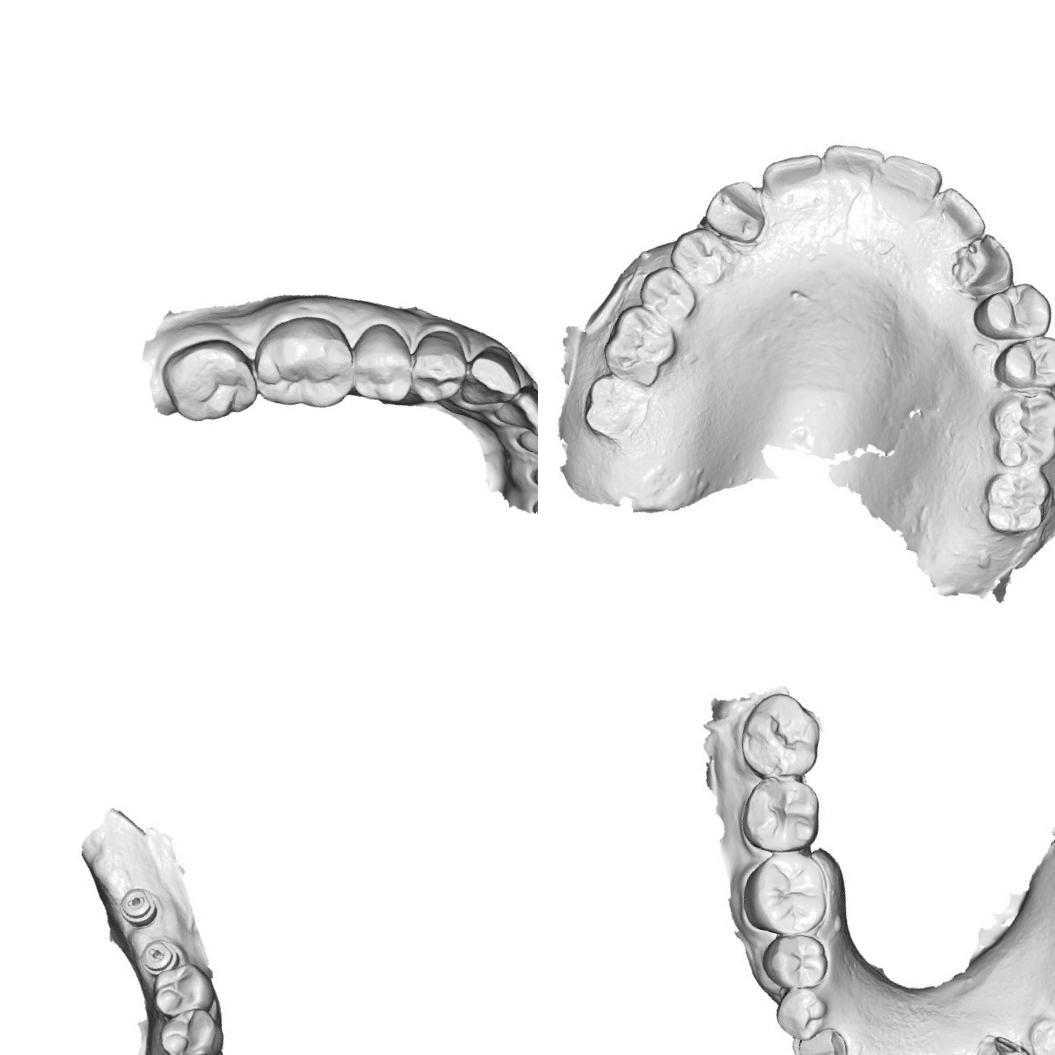canine: (454, 338, 528, 420), (700, 176, 769, 241), (957, 230, 1023, 296), (972, 1027, 1035, 1055)
crown: (787, 1021, 849, 1055)
implant_minus: (115, 886, 161, 930), (137, 937, 182, 977)
incisor: (818, 136, 890, 200), (924, 183, 996, 245), (875, 150, 948, 208), (490, 377, 538, 440), (763, 150, 823, 198), (511, 411, 538, 471)
molar: (244, 303, 364, 420), (155, 323, 274, 439), (735, 691, 830, 782), (744, 848, 832, 934), (742, 772, 826, 856), (599, 302, 678, 384), (576, 369, 652, 450), (978, 462, 1054, 540), (987, 389, 1055, 473)
premolar: (338, 316, 426, 410), (402, 322, 475, 412), (976, 274, 1054, 342), (667, 224, 735, 287), (998, 330, 1055, 396), (151, 965, 214, 1022), (764, 932, 827, 988), (776, 983, 831, 1039), (639, 264, 697, 317), (157, 1004, 216, 1055), (1026, 1013, 1055, 1055)
